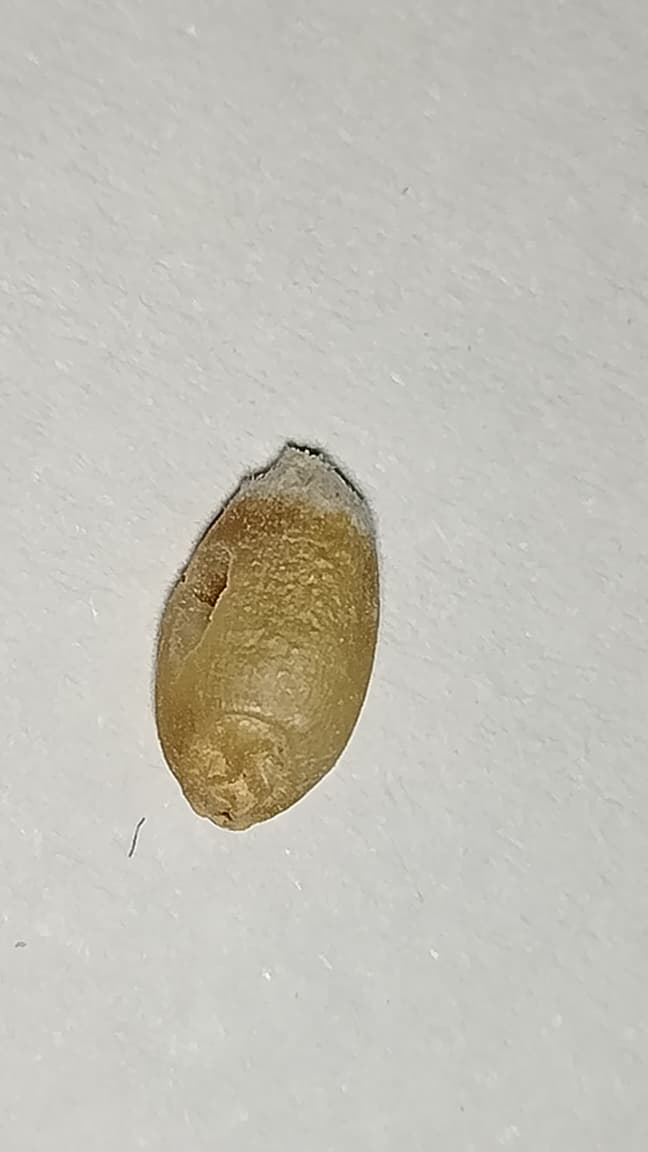damage: (155, 442, 379, 829)
insectdamage: (168, 534, 236, 676)
